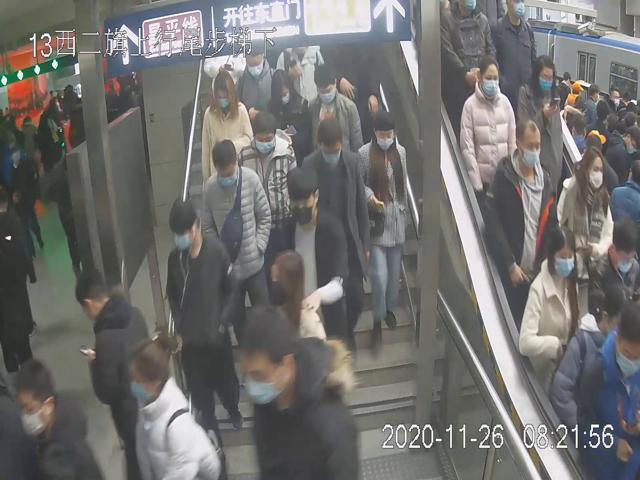person: (165, 194, 241, 452), (201, 138, 273, 342), (300, 117, 372, 321), (354, 104, 410, 362), (483, 113, 561, 293), (274, 167, 353, 339), (516, 222, 582, 383), (236, 110, 302, 266), (458, 50, 516, 197), (555, 139, 616, 266), (515, 54, 565, 201), (198, 70, 253, 184), (303, 63, 361, 160), (259, 69, 309, 155), (234, 47, 282, 114)
